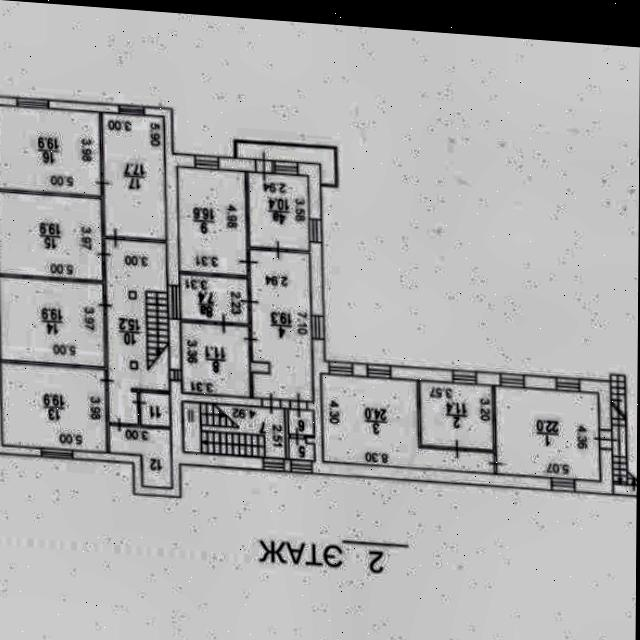room: (313, 372, 497, 472), (104, 237, 168, 425), (486, 386, 605, 481), (0, 362, 111, 453), (0, 275, 109, 367), (248, 248, 311, 403), (0, 106, 106, 195), (0, 192, 107, 280), (103, 112, 166, 240), (178, 166, 246, 275), (177, 401, 287, 458), (412, 381, 496, 449), (181, 321, 248, 396), (248, 171, 308, 250), (104, 425, 173, 488), (234, 142, 336, 183), (176, 274, 250, 323), (139, 392, 168, 427), (284, 408, 313, 435), (285, 437, 314, 461)
